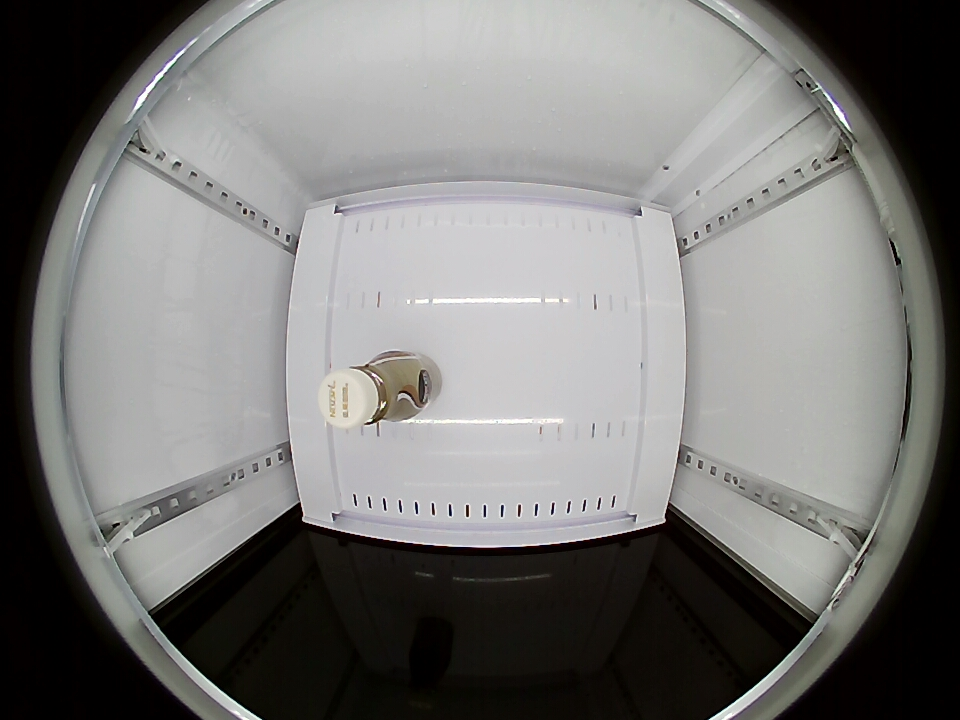kafei: (320, 350, 421, 429)
